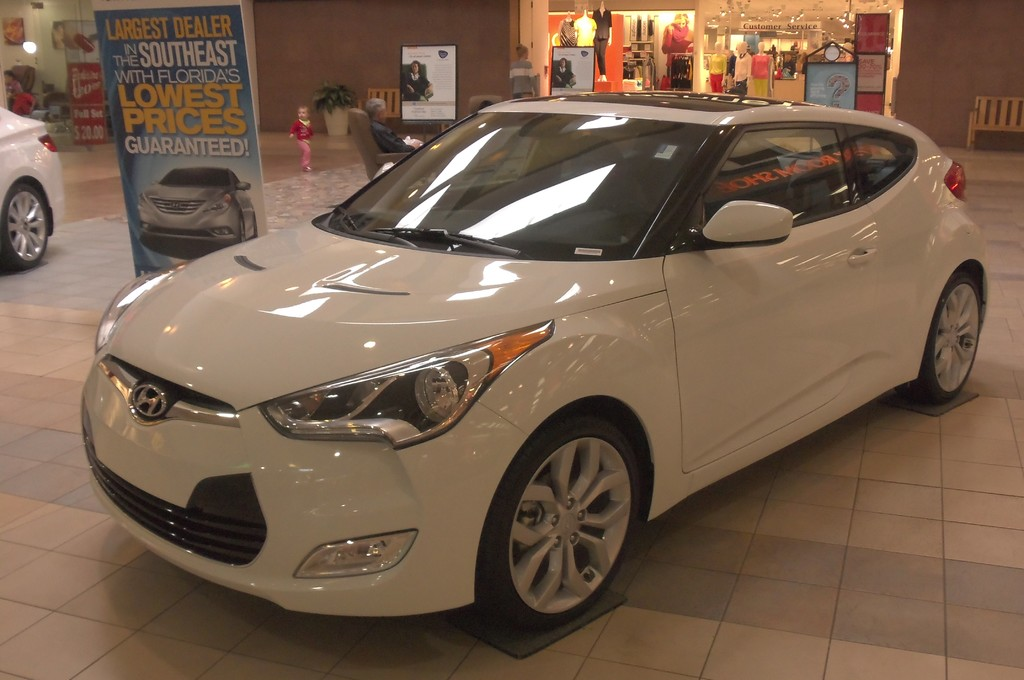Person: (363, 97, 425, 156), (662, 13, 698, 68), (288, 103, 314, 171), (511, 46, 536, 102), (404, 61, 427, 105), (13, 80, 34, 117), (553, 56, 574, 86), (4, 68, 15, 93)
